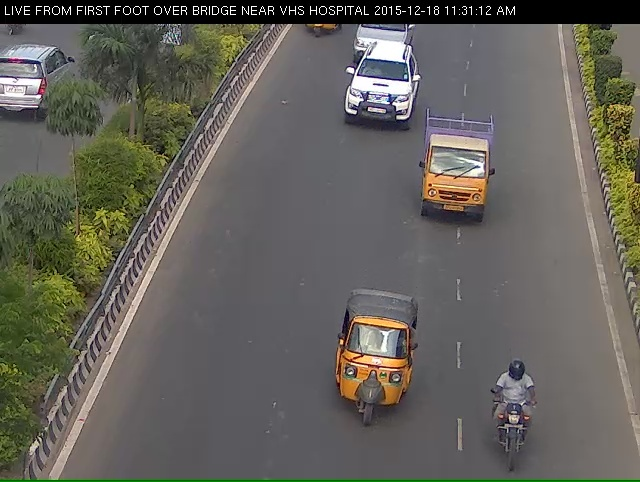Auto: (331, 305, 416, 459), (424, 116, 505, 243)
Car: (352, 54, 420, 141), (345, 17, 415, 64), (346, 18, 415, 65)
Person: (491, 386, 544, 480)
